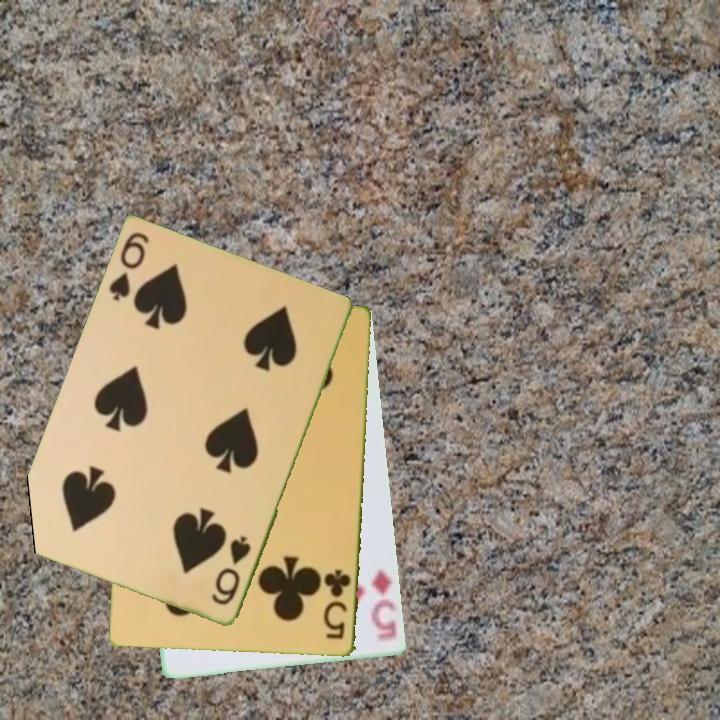5c: (320, 566, 354, 643)
5d: (368, 566, 400, 646)
6s: (105, 229, 152, 305), (208, 533, 254, 609)
